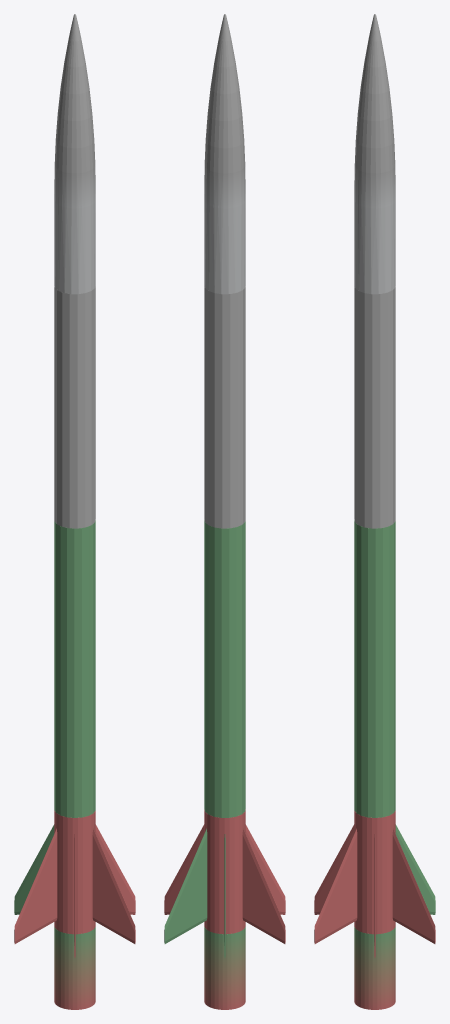
Rendered from Repaired_Stage_3.gltf.
3 views of the same model, side by side, from view 1: azimuth 30°, elevation 25°; view 2: azimuth 150°, elevation 25°; view 3: azimuth 330°, elevation 25° (orthographic).
Visible parts, largest first — view 1: model; view 2: model; view 3: model.
Part boxes in pixels (x1,y1,x2,y2): model: [14, 14, 135, 1009]; model: [164, 14, 285, 1009]; model: [314, 14, 435, 1009].
Size of the model in its own units: 348 by 2719 by 303.
